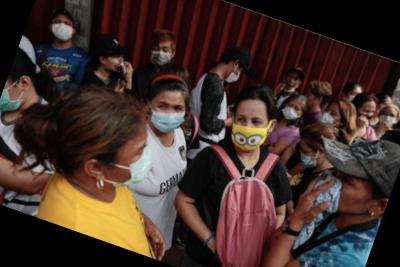mask_weared_incorrect: (104, 52, 128, 77), (282, 72, 302, 95)
with_mask: (106, 131, 162, 194), (317, 164, 376, 222), (226, 108, 274, 158), (146, 94, 190, 138), (48, 14, 78, 45), (293, 142, 323, 173), (149, 41, 176, 70), (318, 105, 343, 131), (280, 99, 303, 124), (356, 101, 377, 123), (378, 109, 398, 129), (226, 68, 243, 87)
